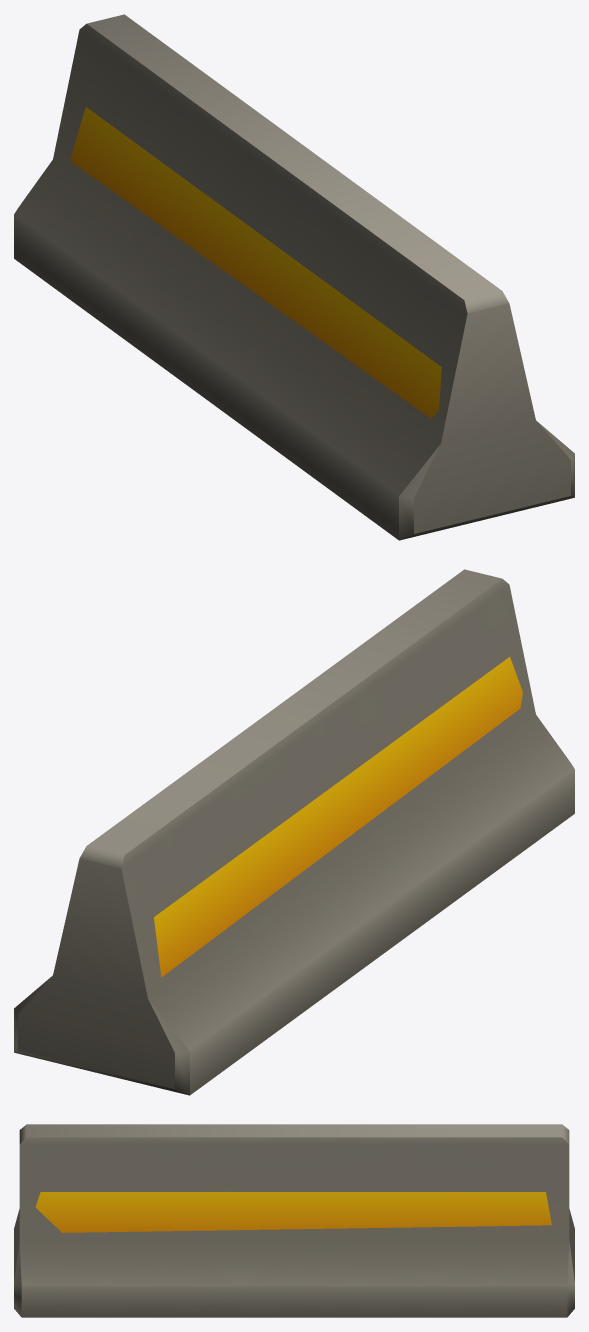
The model's file is tc_concrete_barrier_1a.glb.
3 renders of one model, top to bottom at view 1: azimuth 30°, elevation 25°; view 2: azimuth 150°, elevation 25°; view 3: azimuth 270°, elevation 25°, orthographic. The views are drawn at different scales.
Visible parts, largest first — view 1: Concrete_Barrier_1A; view 2: Concrete_Barrier_1A; view 3: Concrete_Barrier_1A.
Part boxes in pixels (x1,y1,x2,y2): Concrete_Barrier_1A: (14, 14, 574, 540); Concrete_Barrier_1A: (14, 569, 574, 1095); Concrete_Barrier_1A: (14, 1124, 574, 1317).
Bounding box in the file's own units: 1 × 1.2 × 3.9.
Materials: 1 (1 with a texture image).
